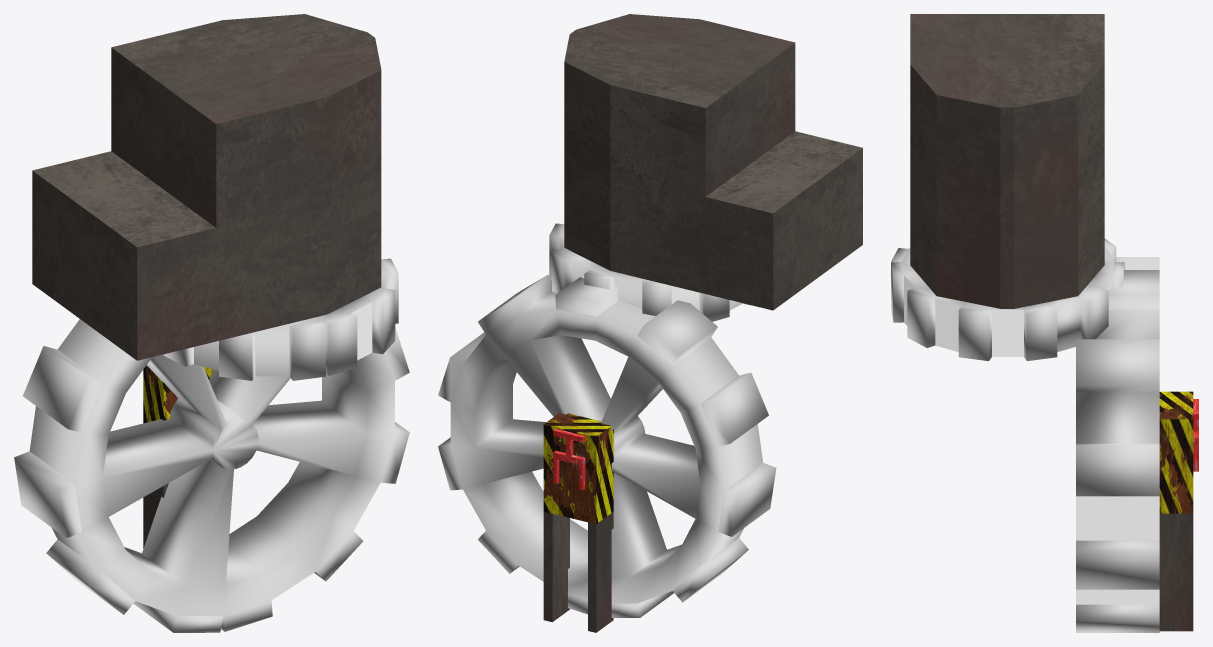
Rendered from TerminalSwitch.fbx.
The picture shows the model from 3 angles, left to right: view 1: azimuth 30°, elevation 25°; view 2: azimuth 150°, elevation 25°; view 3: azimuth 270°, elevation 25°; orthographic projection. The views are drawn at different scales.
Visible parts, largest first — view 1: CranePiece2, CraneCog1, CraneCog2, Box; view 2: CranePiece2, CraneCog1, Box, CraneCog2, Switch; view 3: CranePiece2, CraneCog1, CraneCog2, Box, Switch.
Boxes of the visible parts, x1=… form: CranePiece2: x1=32, y1=14, x2=381, y2=360; CraneCog1: x1=14, y1=319, x2=409, y2=632; CraneCog2: x1=163, y1=258, x2=398, y2=380; Box: x1=143, y1=365, x2=213, y2=548; CranePiece2: x1=564, y1=14, x2=862, y2=310; CraneCog1: x1=438, y1=274, x2=776, y2=617; Box: x1=543, y1=413, x2=613, y2=632; CraneCog2: x1=549, y1=223, x2=750, y2=321; Switch: x1=553, y1=428, x2=585, y2=490; CranePiece2: x1=910, y1=14, x2=1104, y2=308; CraneCog1: x1=1076, y1=257, x2=1159, y2=632; CraneCog2: x1=891, y1=238, x2=1124, y2=361; Box: x1=1159, y1=391, x2=1193, y2=631; Switch: x1=1193, y1=399, x2=1198, y2=471.
Bounding box in the file's own units: 743 × 1173 × 591.
